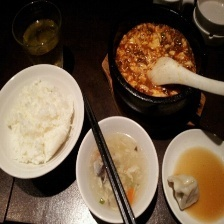sabzi: (112, 20, 199, 100)
